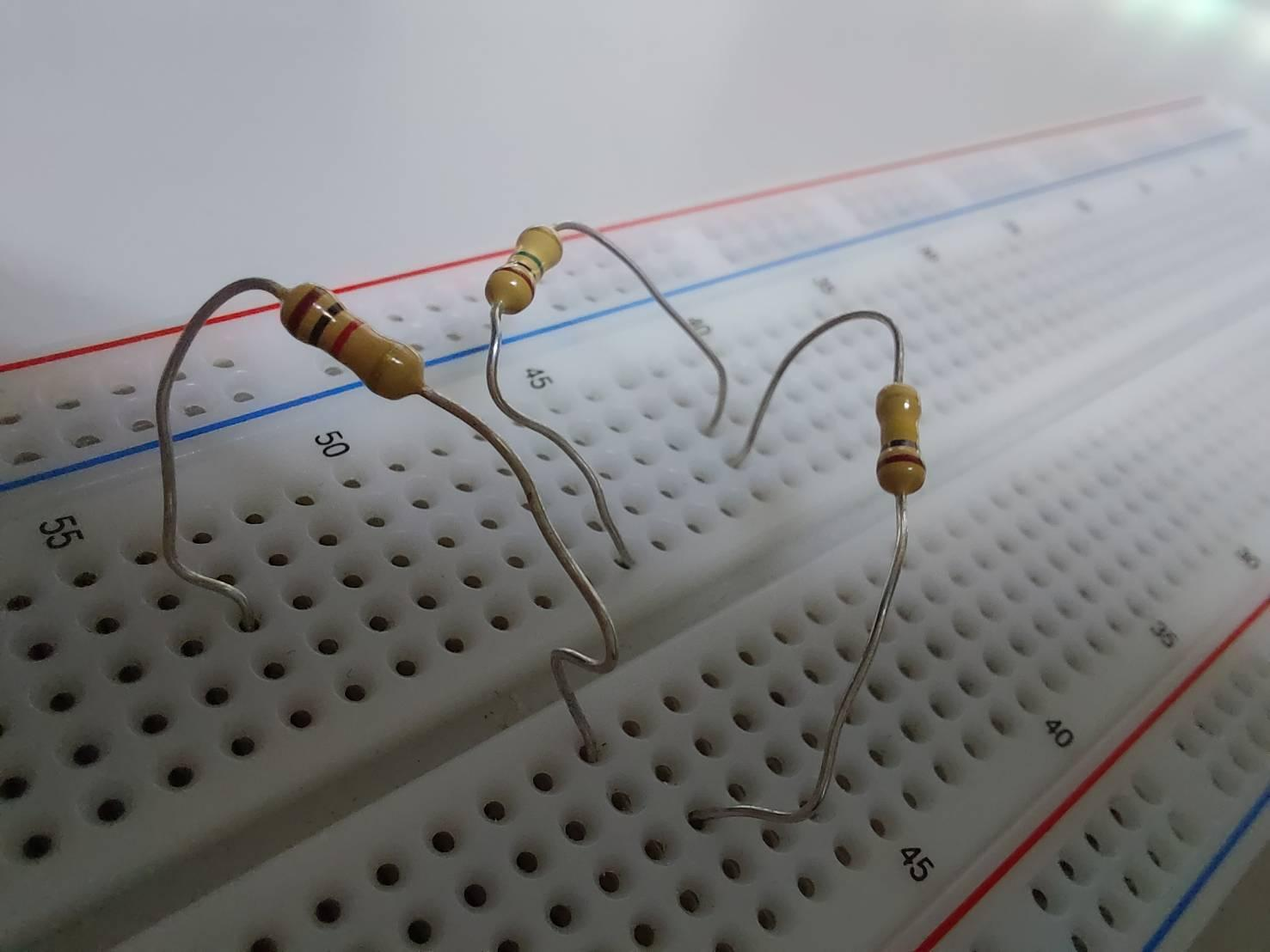resistor: (282, 284, 421, 398), (479, 217, 569, 317), (871, 381, 929, 491)
